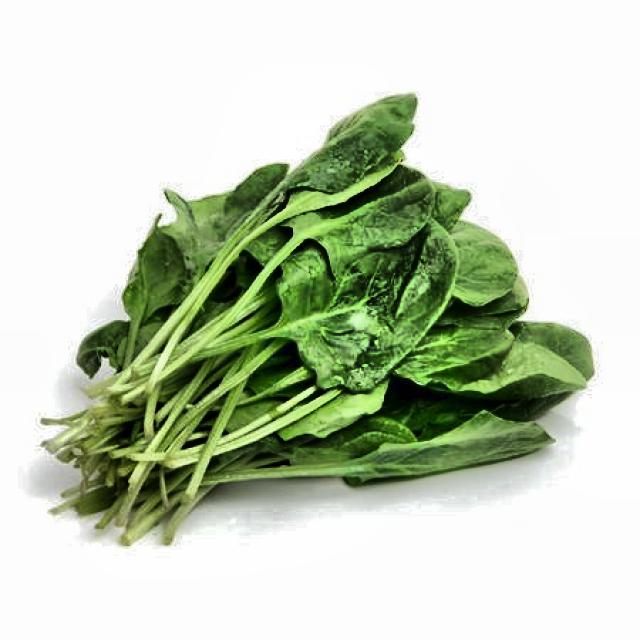spinach: (128, 149, 563, 496)
